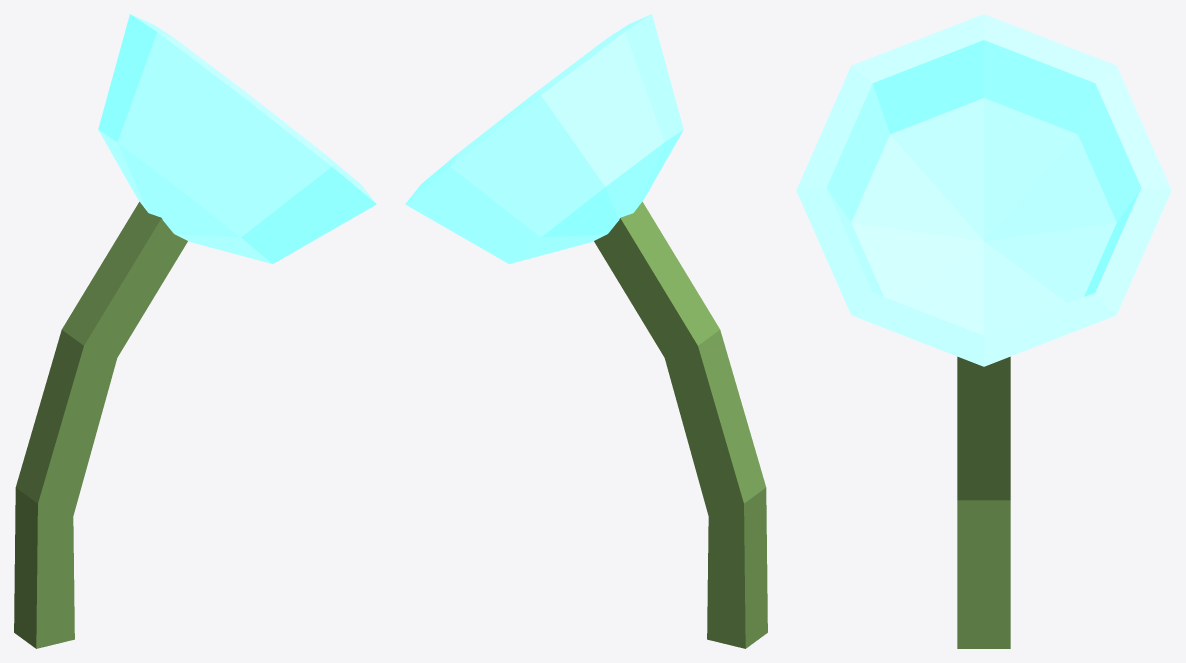
File: Flower 4.fbx
3 renders of one model, left to right at view 1: azimuth 30°, elevation 25°; view 2: azimuth 150°, elevation 25°; view 3: azimuth 270°, elevation 25°, orthographic. The views are drawn at different scales.
Parts seen in each view (by area): view 1: Cube; view 2: Cube; view 3: Cube.
Part boxes in pixels (bbox=[...]): Cube: bbox=[14, 14, 376, 648]; Cube: bbox=[405, 14, 767, 648]; Cube: bbox=[796, 14, 1171, 648].
Bounding box in the file's own units: 0.1425 × 0.2419 × 0.1194.
